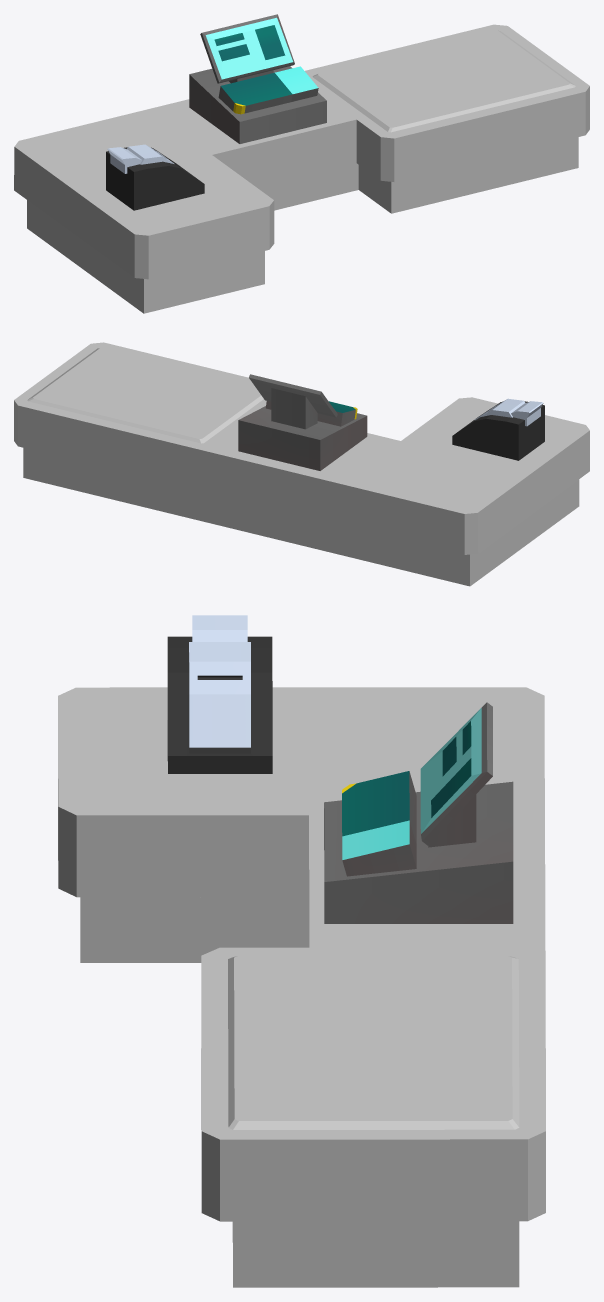
File: Ban thanh toan.fbx
3 renders of one model, top to bottom at view 1: azimuth 30°, elevation 25°; view 2: azimuth 150°, elevation 25°; view 3: azimuth 270°, elevation 25°, orthographic. The views are drawn at different scales.
Parts seen in each view (by area): view 1: Ban thanh toan, Cube.030, Cube.031; view 2: Ban thanh toan, Cube.030, Cube.031; view 3: Ban thanh toan, Cube.030, Cube.031.
Part boxes in pixels (x1,y1,x2,y2): Ban thanh toan: (14,24,589,313); Cube.030: (189,14,326,143); Cube.031: (106,144,204,210); Ban thanh toan: (14,342,589,586); Cube.030: (238,374,367,470); Cube.031: (452,398,544,460); Ban thanh toan: (58,687,545,1287); Cube.030: (324,702,513,923); Cube.031: (167,615,272,773).
Size of the model in its own units: 316 by 98.52 by 144.
